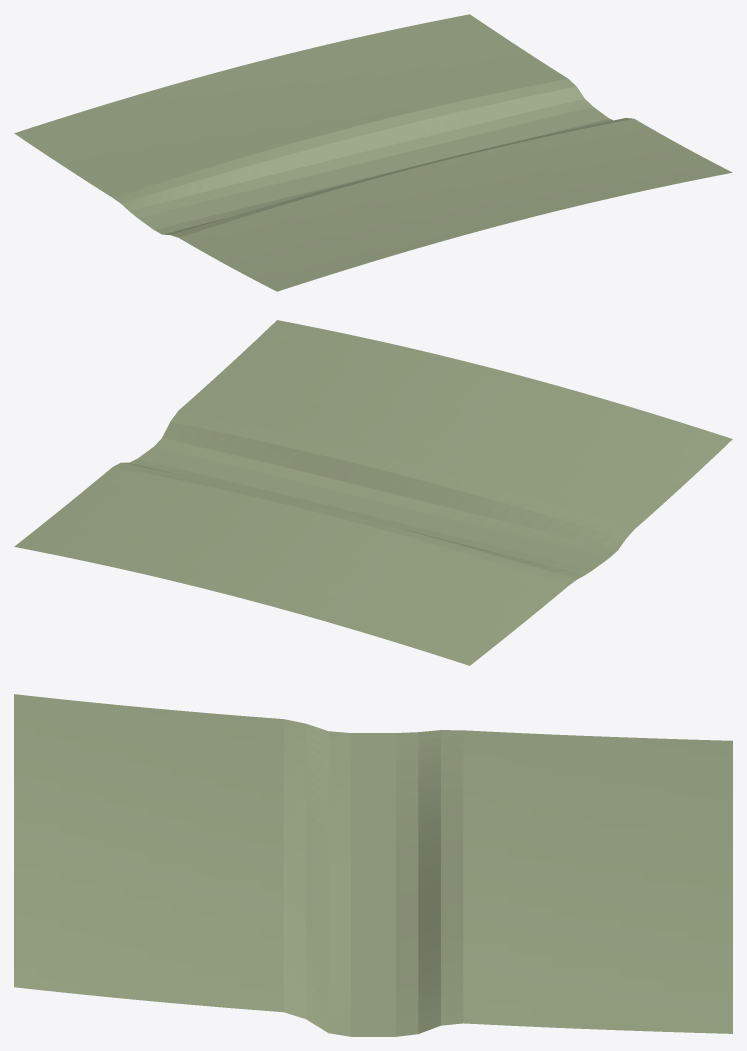
The model's file is valley-6-12.glb.
3 views of the same model, one above another, from view 1: azimuth 30°, elevation 25°; view 2: azimuth 150°, elevation 25°; view 3: azimuth 270°, elevation 25° (orthographic). The views are drawn at different scales.
Visible parts, largest first — view 1: valley-6-12; view 2: valley-6-12; view 3: valley-6-12.
Boxes of the visible parts, left/top/right/bottom form: valley-6-12: left=14, top=14, right=732, bottom=291; valley-6-12: left=14, top=320, right=732, bottom=665; valley-6-12: left=14, top=694, right=732, bottom=1036.
Size of the model in its own units: 256 by 25.05 by 256.
